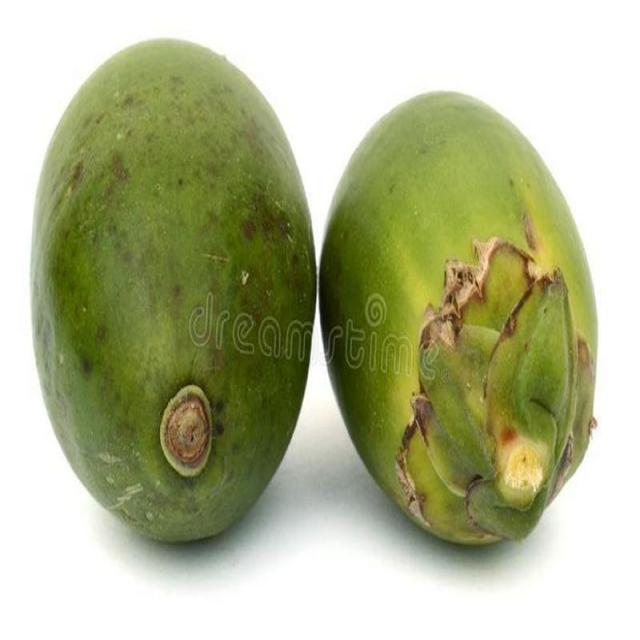good: (27, 37, 318, 549), (317, 93, 600, 550)
